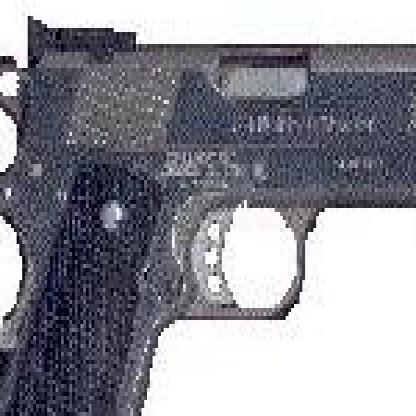gun: (0, 16, 413, 412)
